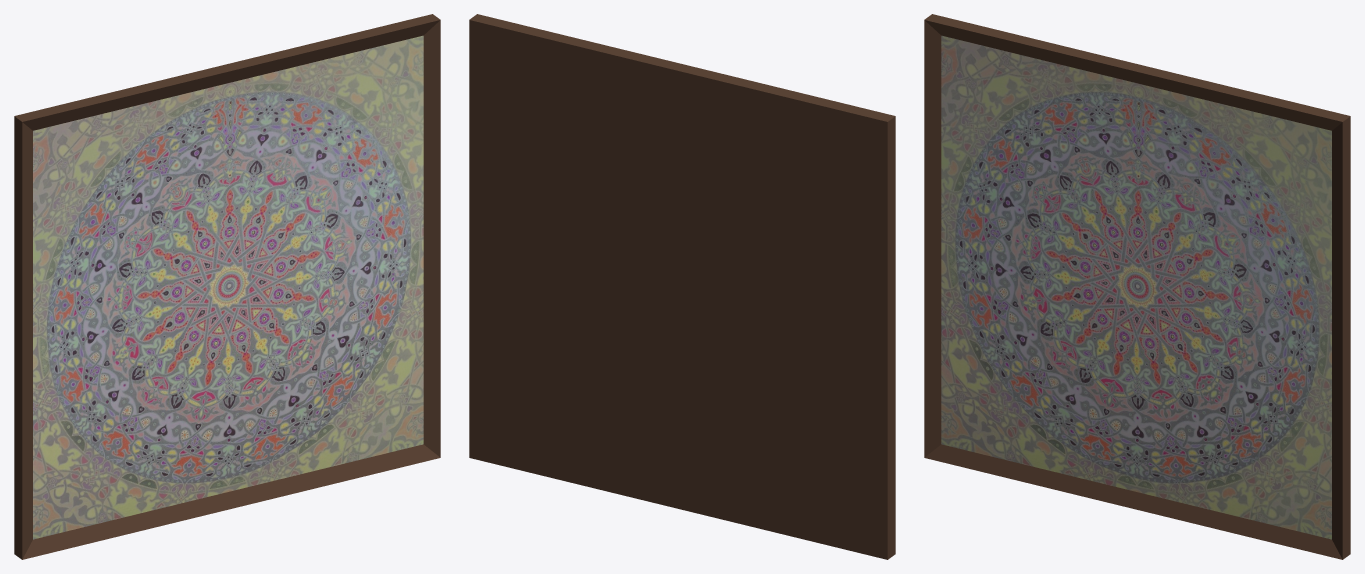
Rendered from tridecagon-moon-star-tridecagon-coral-reef-a0-walnut-tray-v2.glb.
3 views of the same model, side by side, from view 1: azimuth 30°, elevation 25°; view 2: azimuth 150°, elevation 25°; view 3: azimuth 330°, elevation 25° (orthographic).
Parts seen in each view (by area): view 1: FramedPrint; view 2: FramedPrint; view 3: FramedPrint.
Part boxes in pixels (<box>): FramedPrint: <box>14,14,440,559</box>; FramedPrint: <box>469,14,895,559</box>; FramedPrint: <box>924,14,1350,559</box>.
Size of the model in its own units: 0.9 by 0.9 by 0.03.
Materials: 2 (1 with a texture image).
